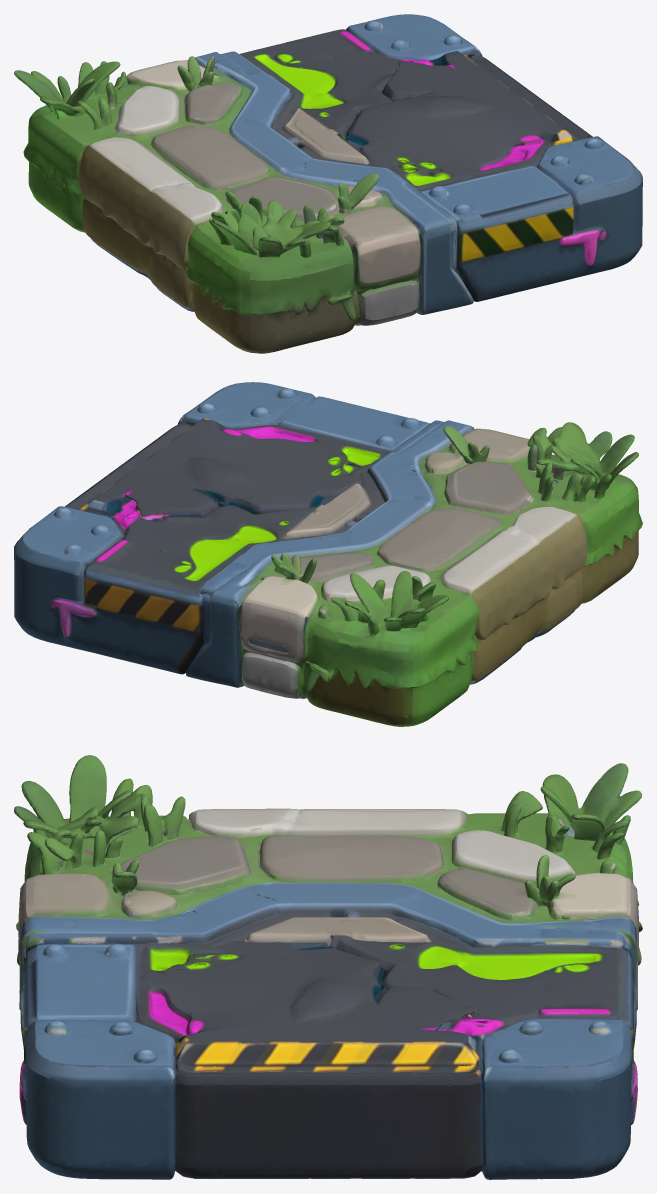
The model's file is u_ter_park_tile.glb.
3 renders of one model, top to bottom at view 1: azimuth 30°, elevation 25°; view 2: azimuth 150°, elevation 25°; view 3: azimuth 270°, elevation 25°, orthographic. The views are drawn at different scales.
Visible parts, largest first — view 1: geometry_0; view 2: geometry_0; view 3: geometry_0.
Part boxes in pixels (x1,y1,x2,y2): geometry_0: [14, 14, 642, 353]; geometry_0: [14, 382, 642, 726]; geometry_0: [14, 755, 642, 1179].
Bounding box in the file's own units: 0.12 × 0.0371 × 0.1198.
1 material, 1 textured.
